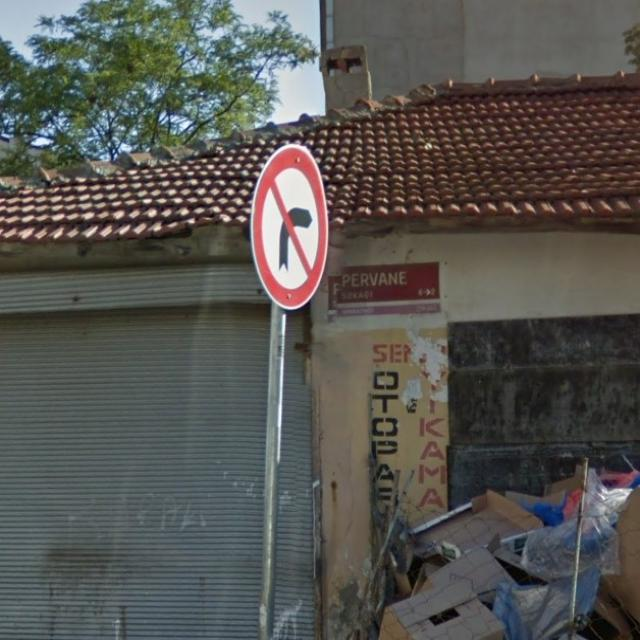sagadonulmez: (251, 145, 330, 310)
